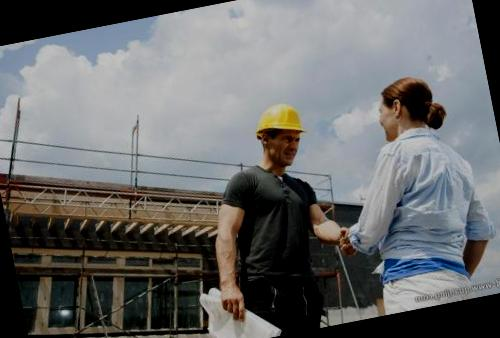no_helmet: (362, 64, 452, 152)
